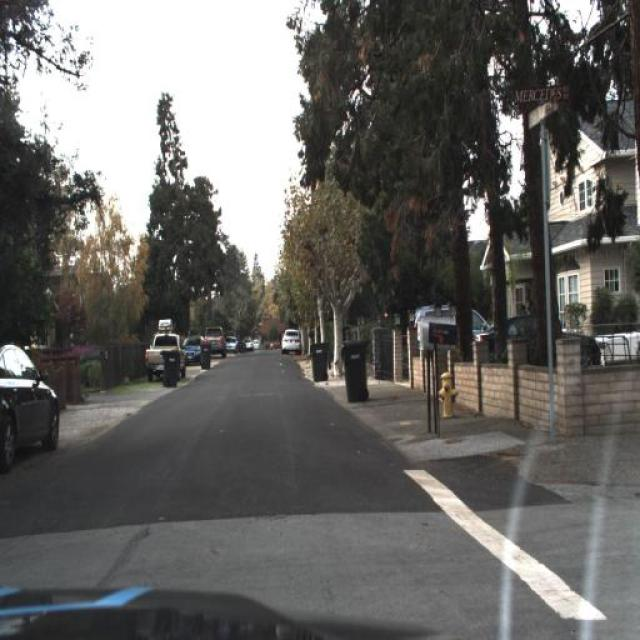car: (438, 297, 592, 378), (0, 342, 59, 478), (370, 290, 460, 352), (139, 325, 189, 393), (181, 331, 213, 372), (178, 332, 208, 374), (278, 320, 304, 360), (202, 323, 226, 358), (224, 332, 242, 357), (240, 335, 254, 353), (250, 335, 261, 353)
